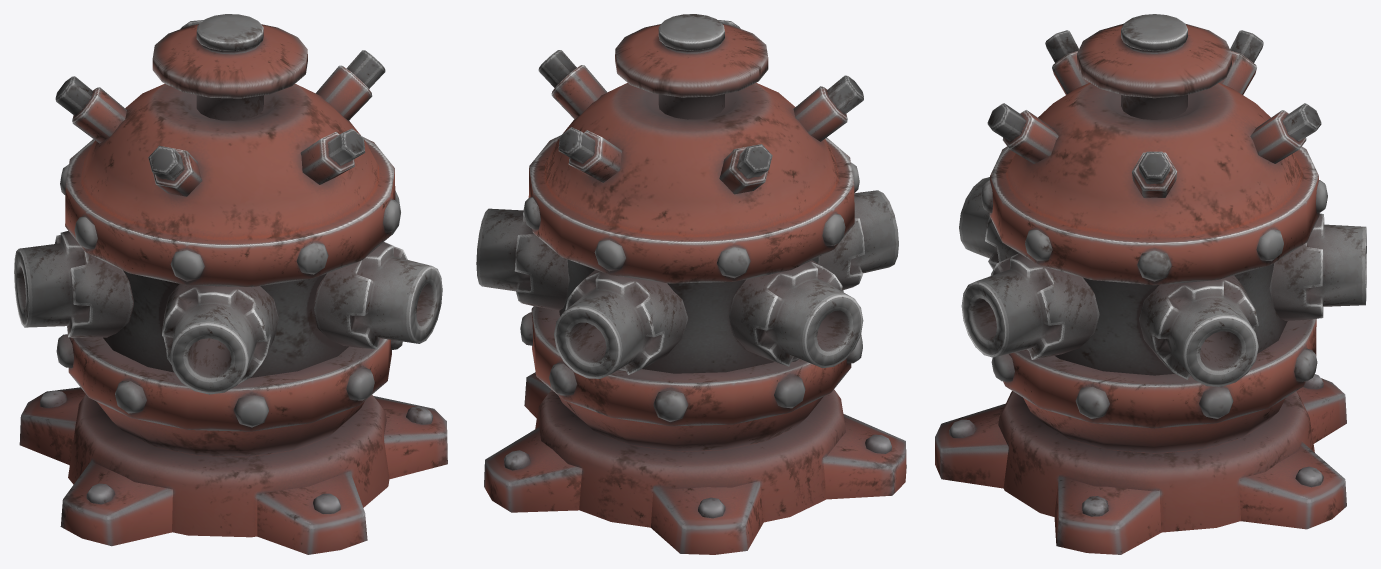
Rendered from murret_exp1.fbx.
3 renders of one model, left to right at view 1: azimuth 30°, elevation 25°; view 2: azimuth 150°, elevation 25°; view 3: azimuth 270°, elevation 25°, orthographic.
Parts seen in each view (by area): view 1: murret_low, murret_low.003, murret_head, murret_gun.003, murret_gun.002, murret_gun.004, murret_low.002; view 2: murret_low, murret_low.003, murret_head, murret_gun, murret_gun.004, murret_gun.001, murret_low.002, murret_gun.003; view 3: murret_low, murret_low.003, murret_head, murret_gun.002, murret_gun.001, murret_low.002, murret_gun, murret_gun.003.
Boxes of the visible parts, x1,y1,x2,y2 form: murret_low: [19, 334, 447, 554]; murret_low.003: [55, 20, 400, 287]; murret_head: [152, 14, 307, 120]; murret_gun.003: [162, 284, 278, 394]; murret_gun.002: [312, 242, 442, 349]; murret_gun.004: [14, 230, 133, 337]; murret_low.002: [103, 270, 348, 377]; murret_low: [484, 306, 906, 554]; murret_low.003: [523, 20, 863, 283]; murret_head: [615, 14, 768, 119]; murret_gun: [554, 269, 688, 378]; murret_gun.004: [729, 260, 863, 368]; murret_gun.001: [476, 208, 569, 310]; murret_low.002: [559, 257, 818, 373]; murret_gun.003: [818, 190, 898, 289]; murret_low: [935, 318, 1346, 554]; murret_low.003: [981, 30, 1327, 285]; murret_head: [1077, 14, 1231, 119]; murret_gun.002: [961, 253, 1099, 359]; murret_gun.001: [1138, 275, 1258, 386]; murret_low.002: [1055, 263, 1287, 375]; murret_gun: [1269, 213, 1366, 320]; murret_gun.003: [959, 177, 1018, 269].
Size of the model in its own units: 276 by 312 by 278.
